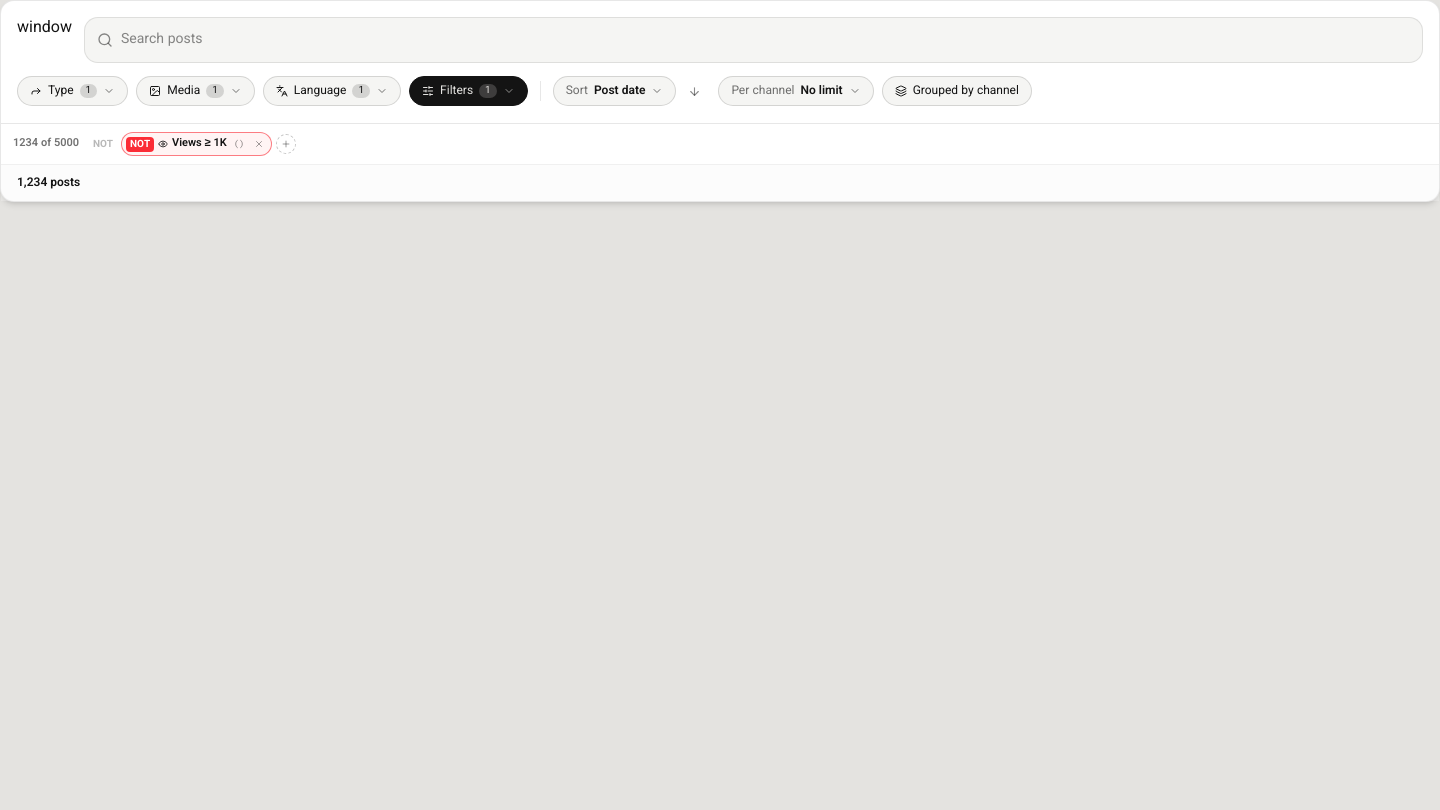
Scenario: the Filters menu › lists the bounds the filter already holds, NOT included
Click the button with test id "post-filters" at (468, 91), box [409,76,528,106]
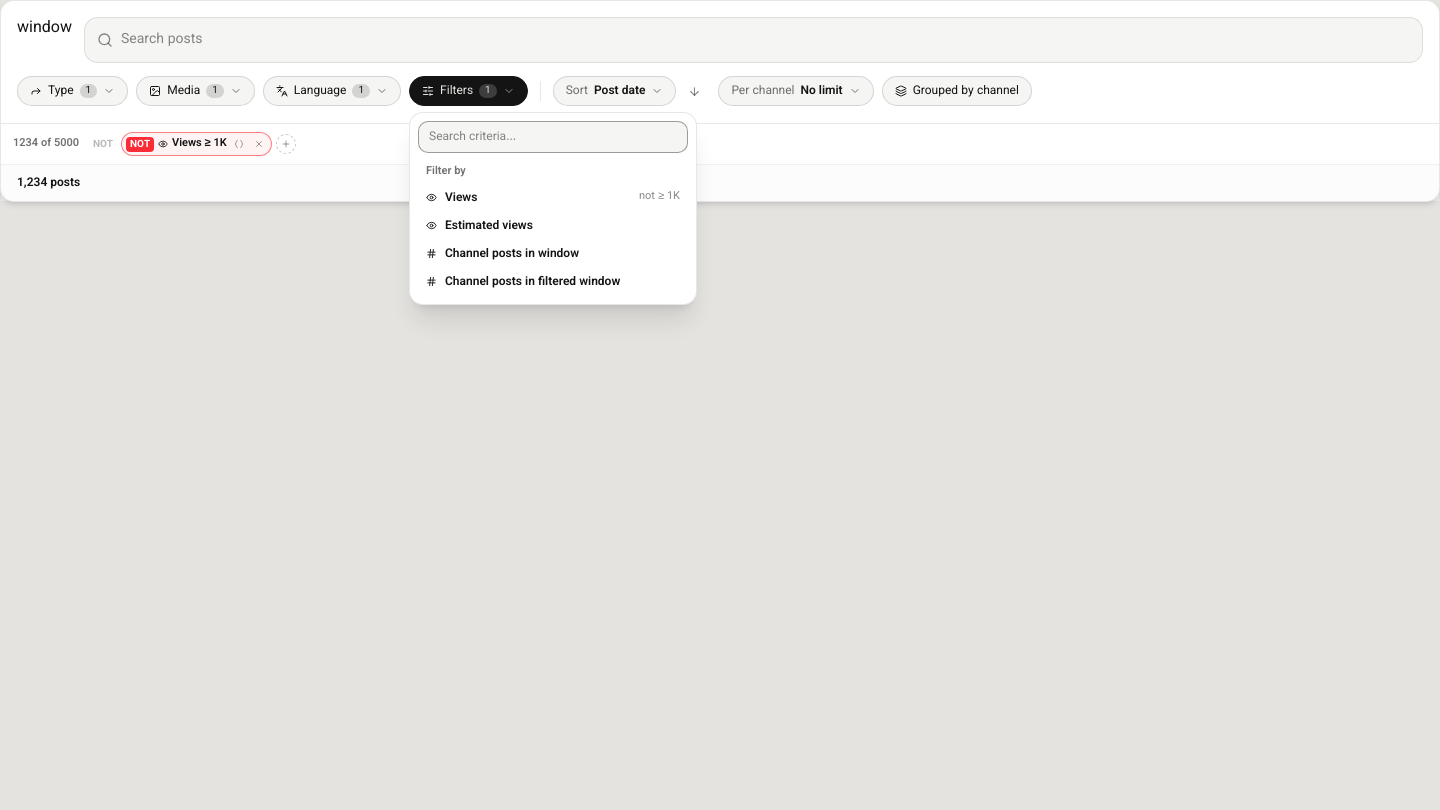
Expected: the button with test id "post-filters-views" shows "not ≥ 1K", [418,184,688,212]
